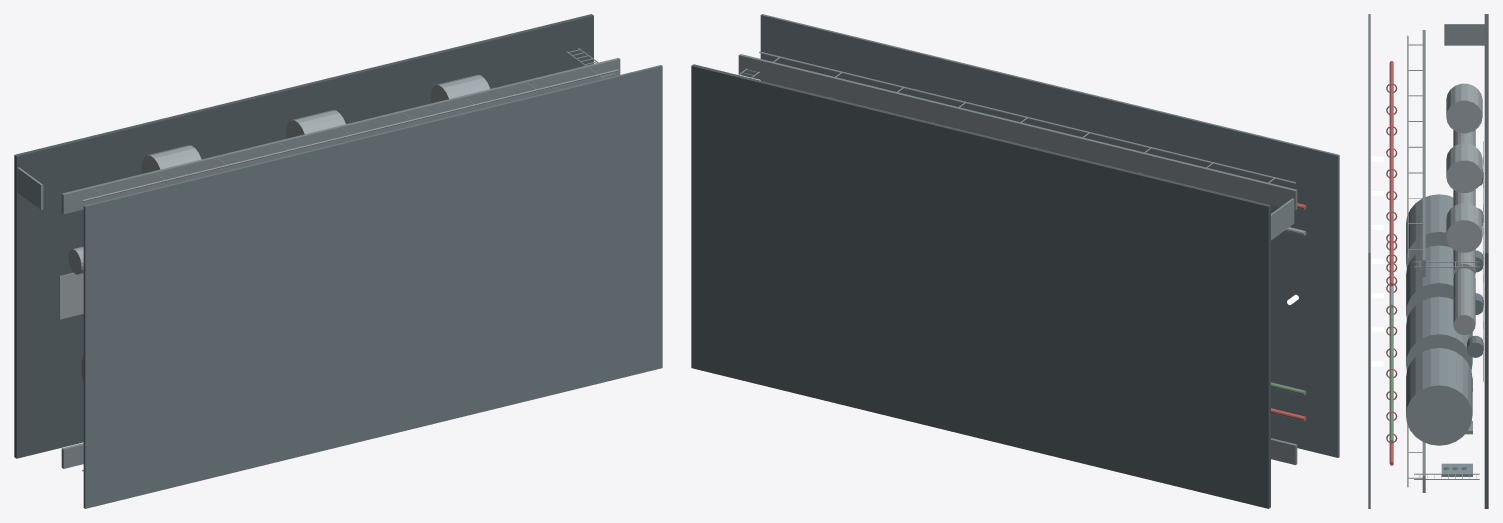
Rendered from Enterprise_CV6_1942_Engineering_Interior.glb.
The picture shows the model from 3 angles, left to right: view 1: azimuth 30°, elevation 25°; view 2: azimuth 150°, elevation 25°; view 3: azimuth 270°, elevation 25°; orthographic projection. The views are drawn at different scales.
Visible parts, largest first — view 1: Machinery_Overhead, Machinery_Floor, Catwalk_1, CatwalkRail_1, EngFloorGrating_0, Generator_0, Generator_2, Generator_1, EngineeringWatertightDoor; view 2: Machinery_Floor, Machinery_Overhead, Catwalk_1, CatwalkRail_1; view 3: Boiler_3, Boiler_2, Machinery_Floor, Boiler_1, Boiler_0, Generator_0, Generator_2, Generator_1, Machinery_Overhead, Turbine_3, MainPipe_3, Catwalk_1 (+11 smaller).
Boxes of the visible parts, x1,y1,x2,y2 form: Machinery_Overhead: (83, 65, 662, 508); Machinery_Floor: (14, 14, 593, 458); Catwalk_1: (61, 58, 620, 214); CatwalkRail_1: (82, 69, 618, 201); EngFloorGrating_0: (59, 272, 83, 319); Generator_0: (141, 145, 201, 173); Generator_2: (430, 75, 490, 103); Generator_1: (286, 110, 345, 138); EngineeringWatertightDoor: (17, 167, 43, 209); Machinery_Floor: (691, 64, 1270, 508); Machinery_Overhead: (760, 14, 1339, 457); Catwalk_1: (738, 54, 1297, 210); CatwalkRail_1: (759, 51, 1295, 183); Boiler_3: (1406, 348, 1472, 445); Boiler_2: (1406, 296, 1472, 370); Machinery_Floor: (1484, 14, 1488, 508); Boiler_1: (1406, 245, 1453, 319); Boiler_0: (1406, 194, 1453, 268); Generator_0: (1446, 83, 1482, 133); Generator_2: (1446, 203, 1482, 252); Generator_1: (1446, 143, 1482, 192); Machinery_Overhead: (1368, 14, 1370, 508); Turbine_3: (1453, 268, 1475, 335); MainPipe_3: (1389, 61, 1393, 286); Catwalk_1: (1422, 30, 1425, 276).
Size of the model in its own units: 28 by 14 by 5.96.
